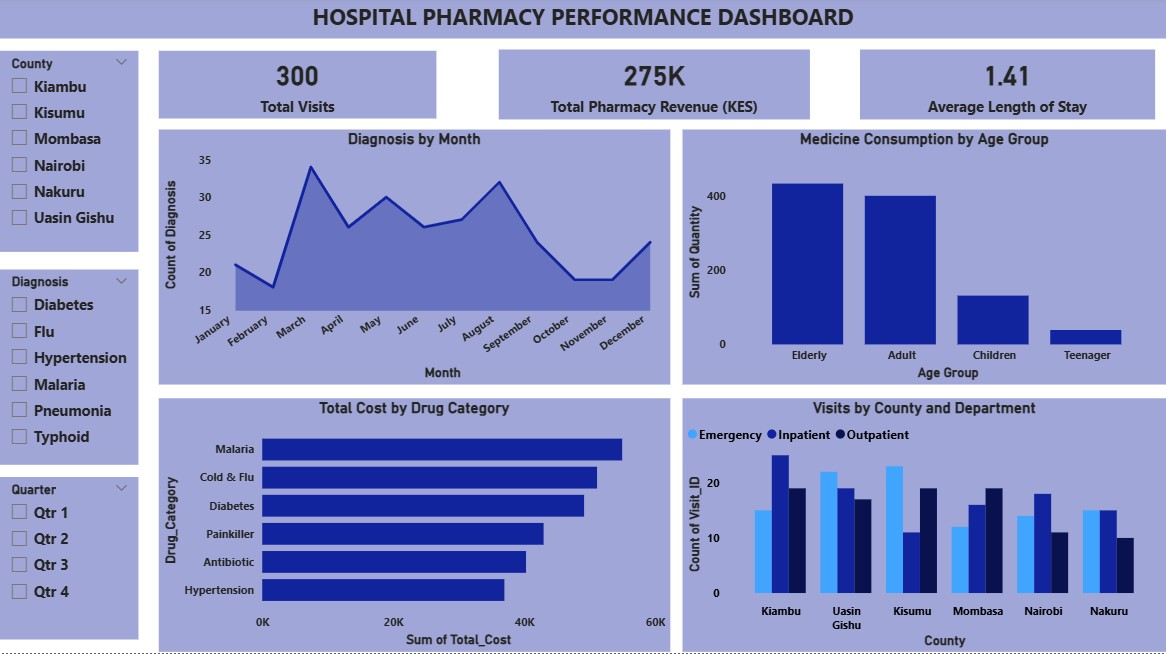

The dashboard page shown, as its layout file describes it:
{"tool":"powerbi","page":{"name":"Dahboard","canvas":[1280,720],"ordinal":0},"visuals":[{"type":"card","fields":{"Values":["Visits.Total Visits"]},"box":[174.3,59,304.6,74.1],"z":0},{"type":"card","fields":{"Values":["Pharmacy_Transactions.Total Pharmacy Revenue"]},"box":[547.5,57.6,341.7,76.8],"z":1000},{"type":"card","fields":{"Values":["Visits.Average Length of Stay"]},"box":[944.1,57.6,323.8,76.8],"z":2000},{"type":"stackedAreaChart","title":"Diagnosis by Month","fields":{"Category":["Visits.Visit_Date.Variation.Date Hierarchy.Month"],"Y":["CountNonNull(Visits.Diagnosis)"]},"box":[174.3,145.5,561.2,279.9],"z":3000},{"type":"clusteredBarChart","title":"Total Cost by Drug Category","fields":{"Category":["Pharmacy_Transactions.Drug_Category"],"Y":["Sum(Pharmacy_Transactions.Total_Cost)"]},"box":[174.3,440.5,561.2,278.6],"z":4000},{"type":"clusteredColumnChart","title":"Visits by County and Department","fields":{"Category":["Patients.County"],"Series":["Visits.Department"],"Y":["CountNonNull(Visits.Visit_ID)"]},"box":[749.2,440.5,531,278.6],"z":5000},{"type":"textbox","box":[0,0,1280.3,45.3],"z":6000},{"type":"slicer","fields":{"Values":["Patients.County"]},"box":[0,59,152.3,220.9],"z":7000},{"type":"slicer","fields":{"Values":["Visits.Diagnosis"]},"box":[0,299.1,152.3,214.1],"z":8000},{"type":"slicer","fields":{"Values":["Visits.Visit_Date.Variation.Date Hierarchy.Quarter"]},"box":[0,526.9,152.3,178.4],"z":9000},{"type":"columnChart","title":"Medicine Consumption by Age Group","fields":{"Category":["Patients.Age Group"],"Y":["Sum(Pharmacy_Transactions.Quantity)"]},"box":[749.2,145.5,531,279.9],"z":10000}]}

Visuals, with their boxes in screenshot pixels (x1, y1, x2, y2), scaled from the page's 1280x720 canvas onto the 1166x654 screenshot:
card - Visits.Total Visits: [left=159, top=54, right=436, bottom=121]
card - Pharmacy_Transactions.Total Pharmacy Revenue: [left=499, top=52, right=810, bottom=122]
card - Visits.Average Length of Stay: [left=860, top=52, right=1155, bottom=122]
"Diagnosis by Month" stackedAreaChart: [left=159, top=132, right=670, bottom=386]
"Total Cost by Drug Category" clusteredBarChart: [left=159, top=400, right=670, bottom=653]
"Visits by County and Department" clusteredColumnChart: [left=682, top=400, right=1165, bottom=653]
textbox: [left=0, top=0, right=1165, bottom=41]
slicer - Patients.County: [left=0, top=54, right=139, bottom=254]
slicer - Visits.Diagnosis: [left=0, top=272, right=139, bottom=466]
slicer - Visits.Visit_Date.Variation.Date Hierarchy.Quarter: [left=0, top=479, right=139, bottom=641]
"Medicine Consumption by Age Group" columnChart: [left=682, top=132, right=1165, bottom=386]
